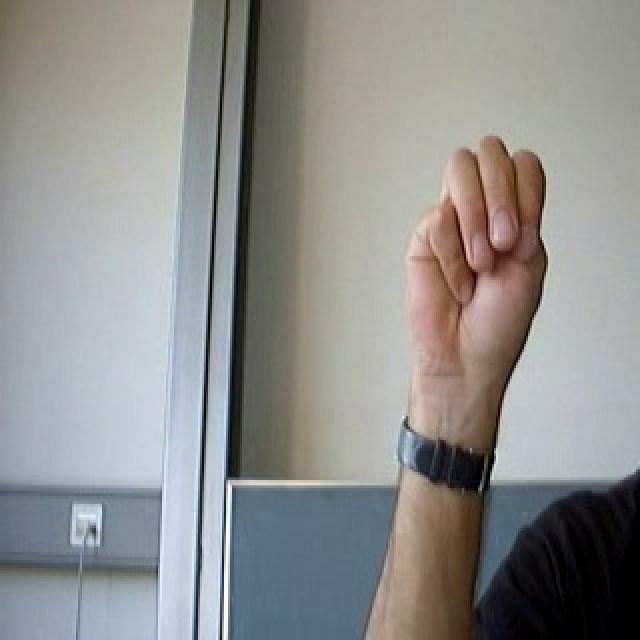M: (393, 127, 568, 379)
